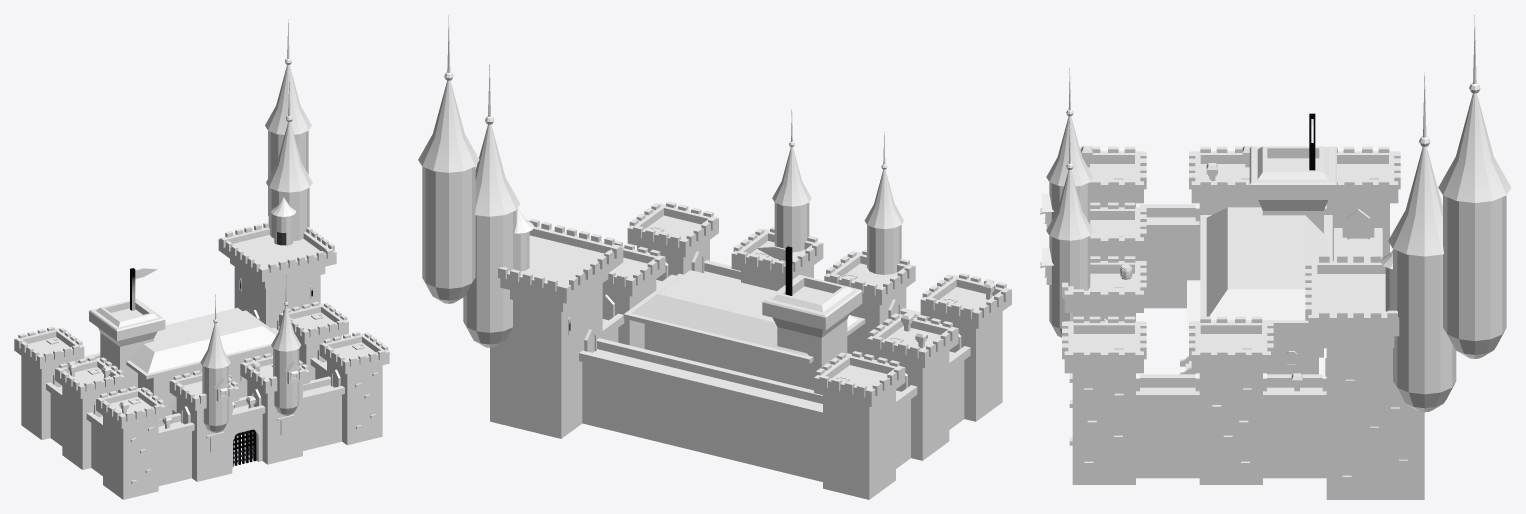
File: Castle.fbx
3 renders of one model, left to right at view 1: azimuth 30°, elevation 25°; view 2: azimuth 150°, elevation 25°; view 3: azimuth 270°, elevation 25°, orthographic. The views are drawn at different scales.
Visible parts, largest first — view 1: pCube708; view 2: pCube708; view 3: pCube708.
Part boxes in pixels (x1,y1,x2,y2): pCube708: (14, 19, 389, 499); pCube708: (418, 15, 1011, 499); pCube708: (1040, 15, 1511, 499).
Size of the model in its own units: 18.14 by 17.29 by 14.83.
